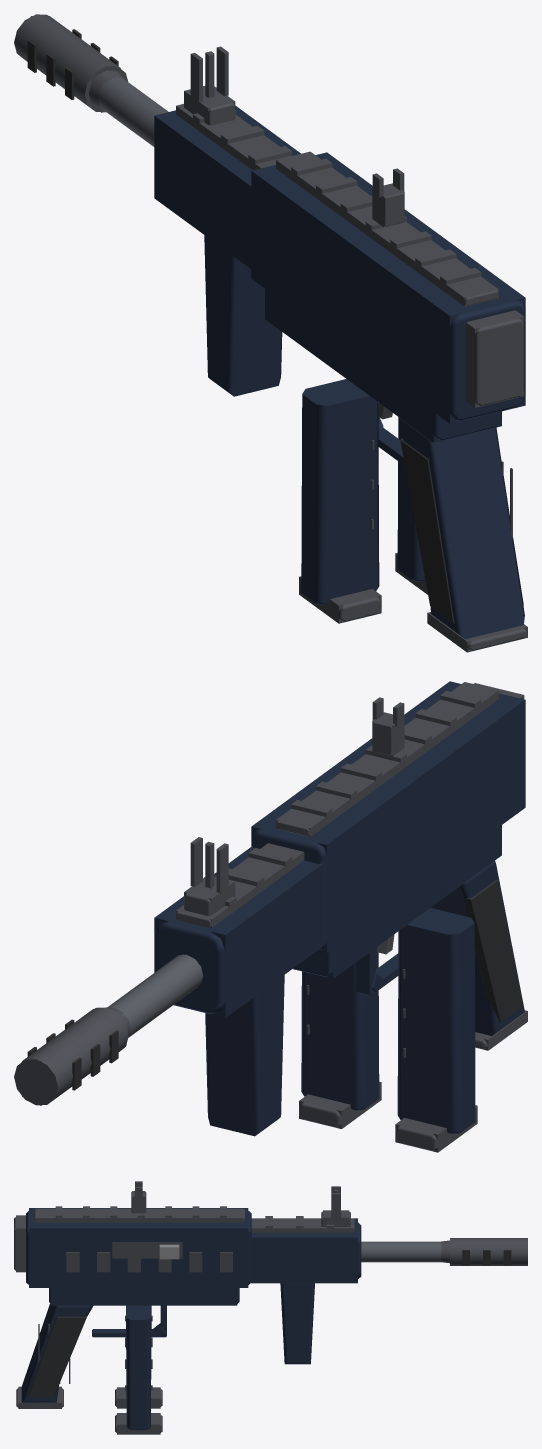
Rendered from s_brawl.glb.
3 renders of one model, top to bottom at view 1: azimuth 30°, elevation 25°; view 2: azimuth 150°, elevation 25°; view 3: azimuth 270°, elevation 25°, orthographic. The views are drawn at different scales.
Parts seen in each view (by area): view 1: L0, L1; view 2: L0, L1; view 3: L0, L1.
Boxes of the visible parts, x1,y1,x2,y2 form: L0: (14, 14, 527, 651); L1: (16, 16, 527, 652); L0: (14, 682, 527, 1151); L1: (14, 681, 527, 1152); L0: (14, 1181, 527, 1432); L1: (16, 1186, 527, 1434).
Bounding box in the file's own units: 0.0938 × 0.2325 × 0.4688.
